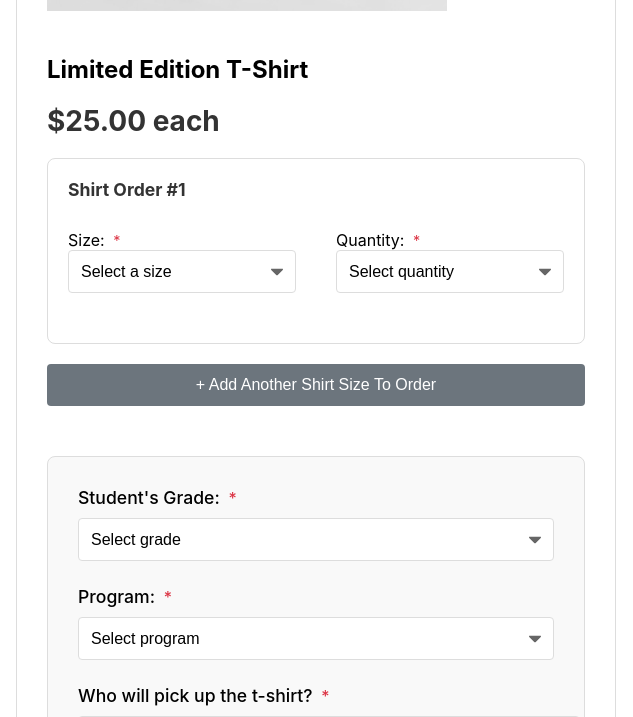
Test: HomeView — add / remove shirt orders › adds a second shirt order when the add button is clicked
The image size is (633, 717).
(page scrolled)
Click the button with class "add-shirt-button" at point(316, 385), box [47,364,585,406]
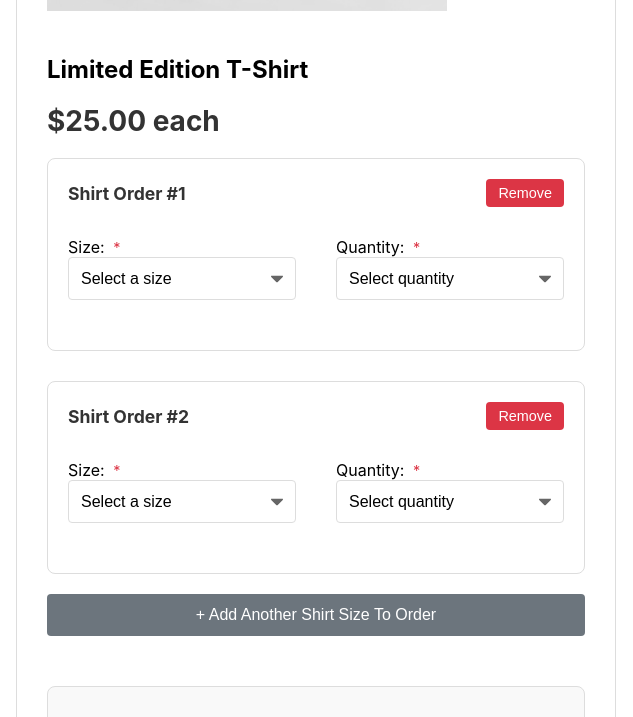
Expected: the dropdown with id "size-1" is shown, [68,480,296,523]
Expected: the dropdown labelled "Quantity: *" below "Shirt Order #2" is shown, [336,480,564,523]
